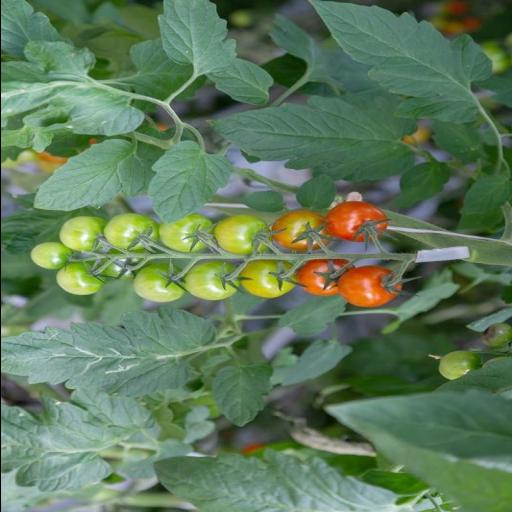disease_tomato: (0, 306, 217, 398)
